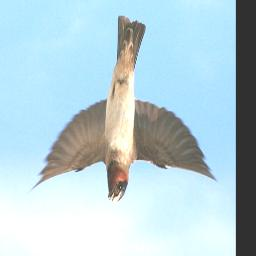Swallow: (27, 14, 219, 204)
